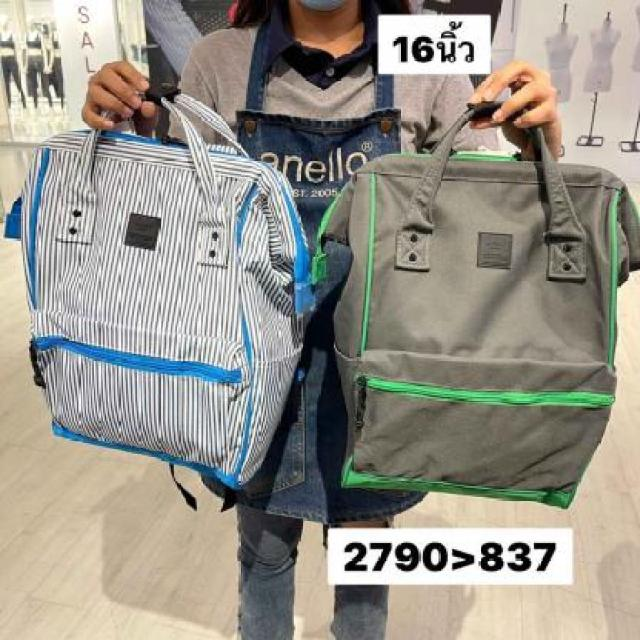Bag: (0, 38, 329, 524), (308, 80, 635, 525)
